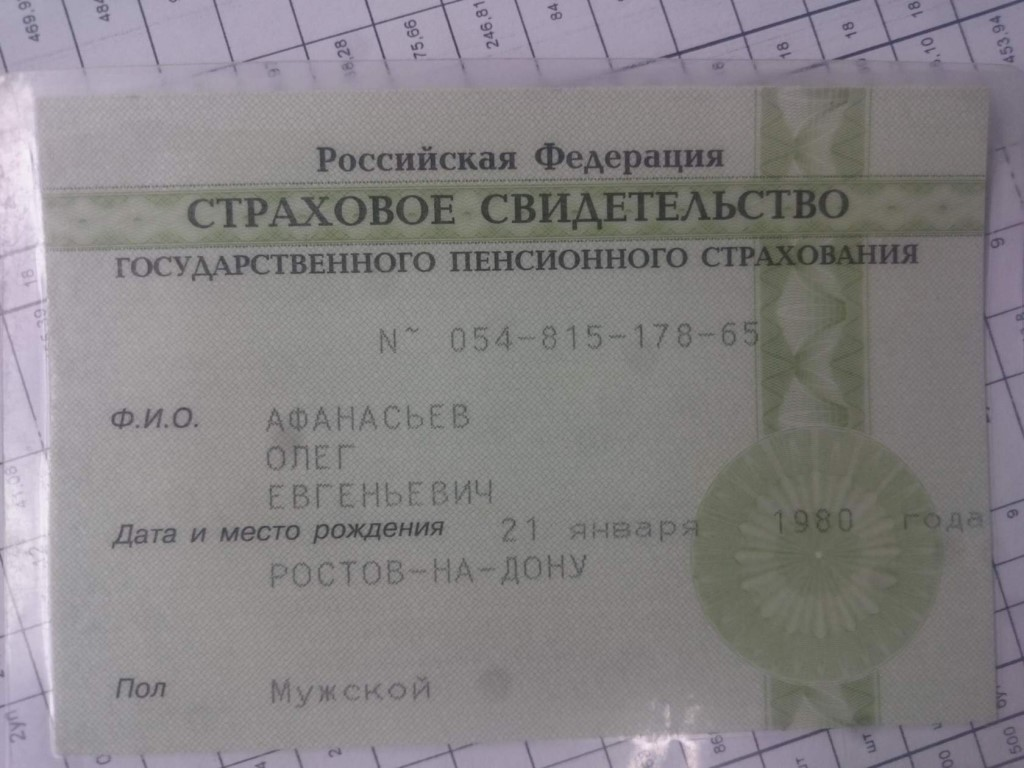text: (429, 317, 771, 361), (257, 553, 605, 588), (762, 497, 986, 541), (255, 398, 484, 437), (493, 508, 708, 549), (257, 477, 512, 511), (261, 667, 440, 709), (255, 436, 376, 476)
